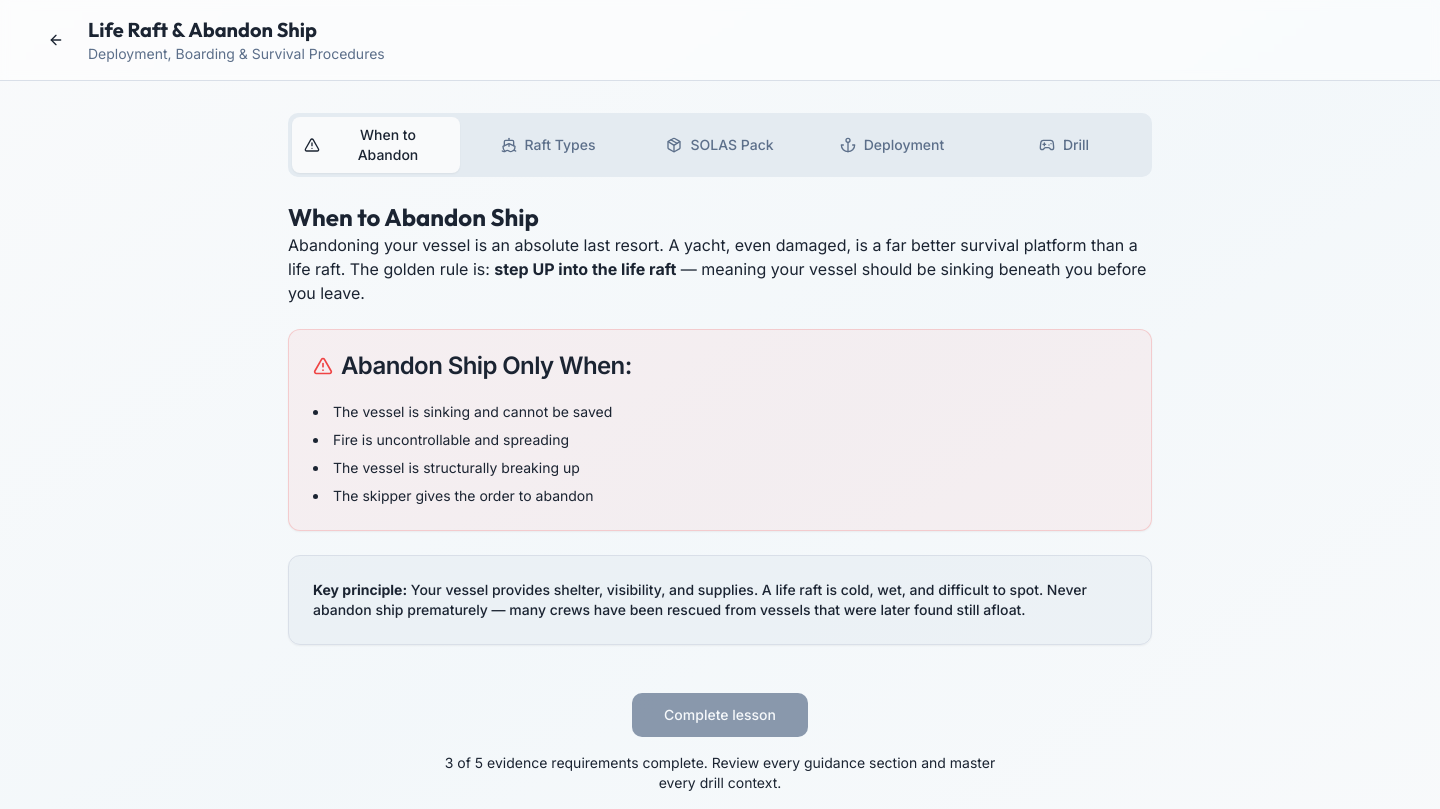
Scenario: LifeRaftTheory Page › should display deployment and boarding procedures when clicking the Deployment tab
Click the tab "Deployment".
click(892, 145)  # box [808,123,976,167]
(page scrolled)
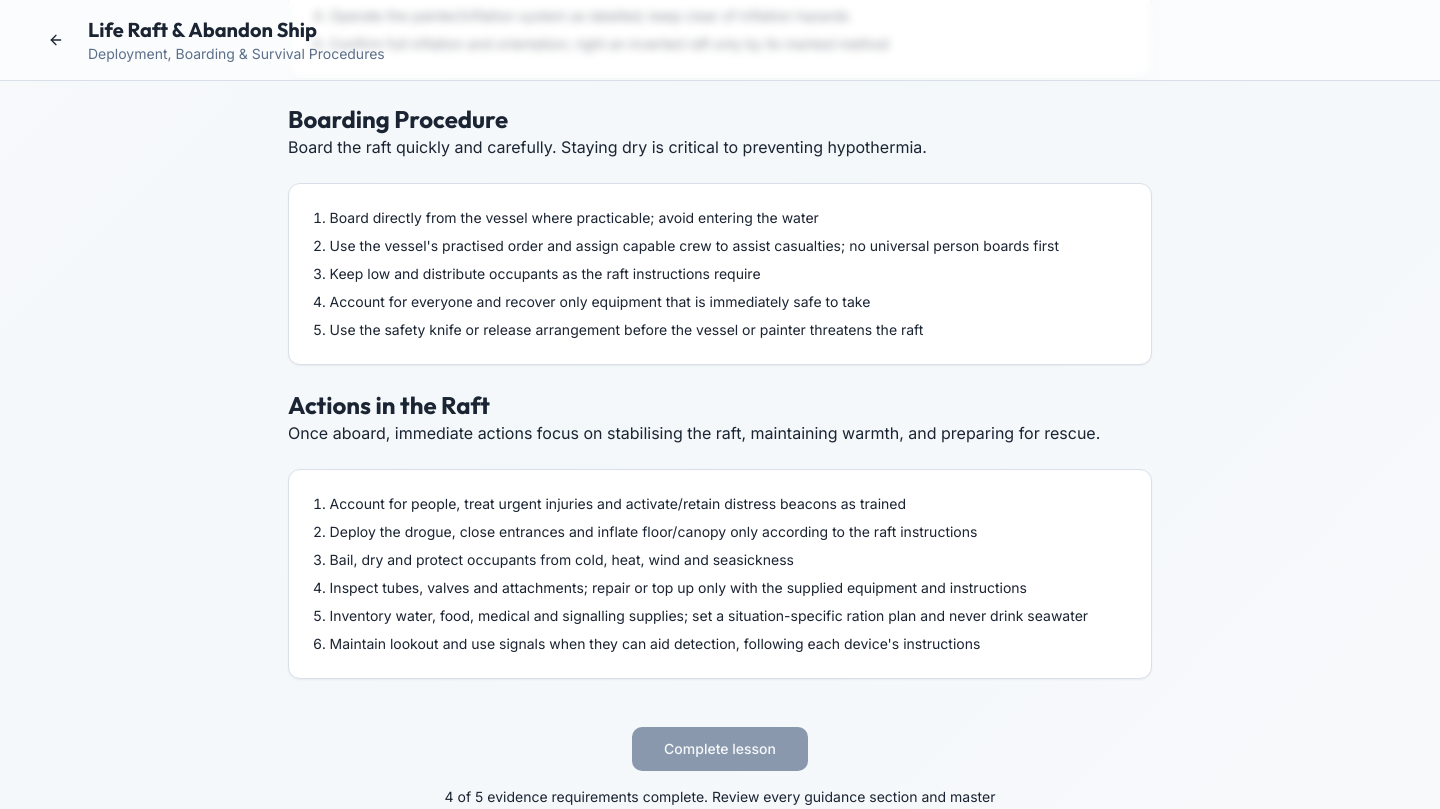
Result: the heading "Boarding Procedure" is shown at [288,104,508,134]
Result: the heading "Actions in the Raft" is shown at [288,390,490,420]
